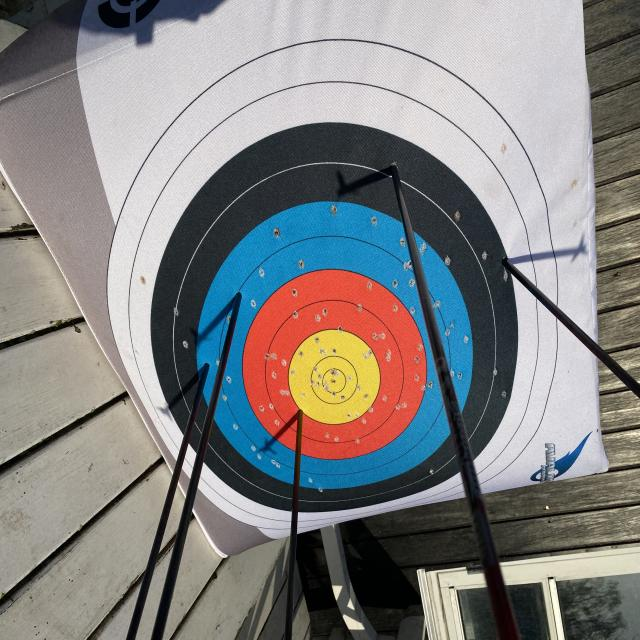Arrow_Black: (375, 152, 417, 190), (490, 245, 516, 282)
Arrow_Blue: (225, 280, 250, 334), (198, 349, 215, 393)
Arrow_Red: (279, 399, 316, 444)
